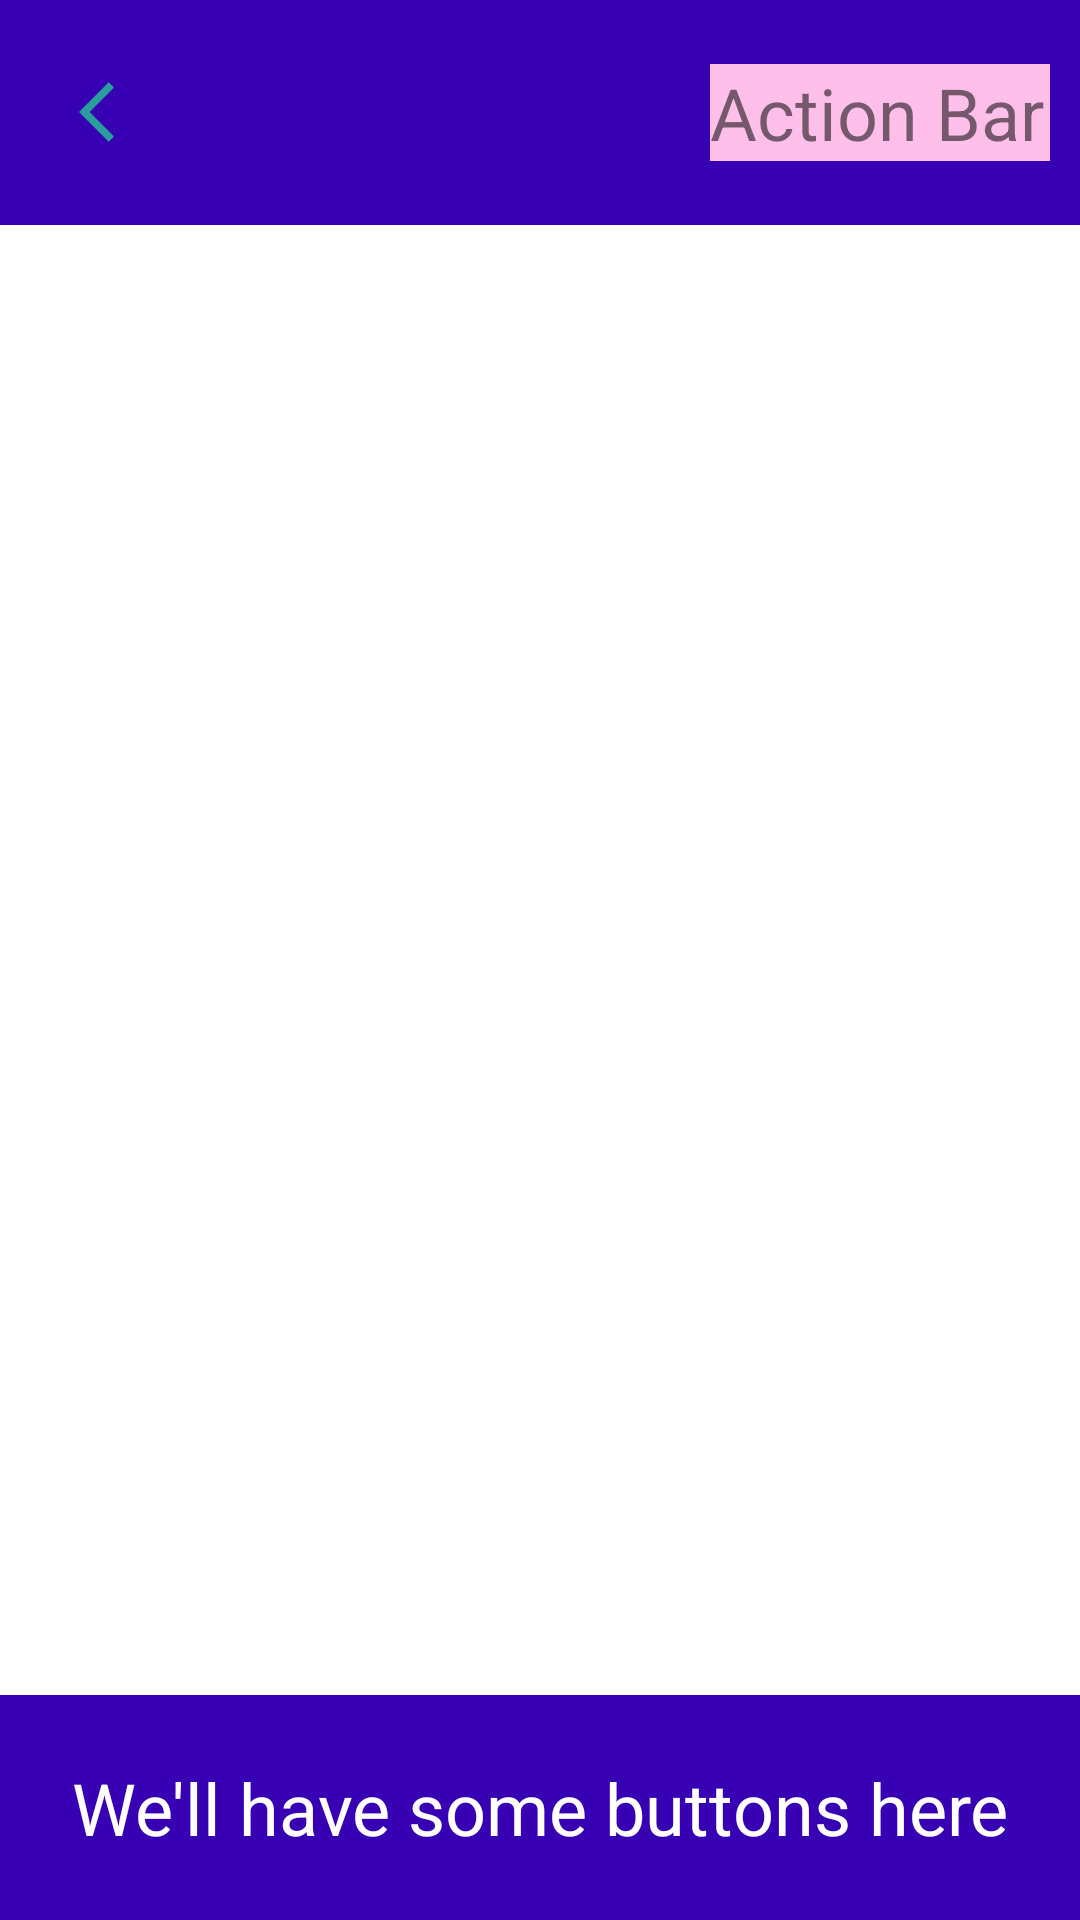

Named icons in this screenshot (1080x1920) and their bounding boxes, (x1, y1, x2, y2):
back: (79, 82, 114, 142)
